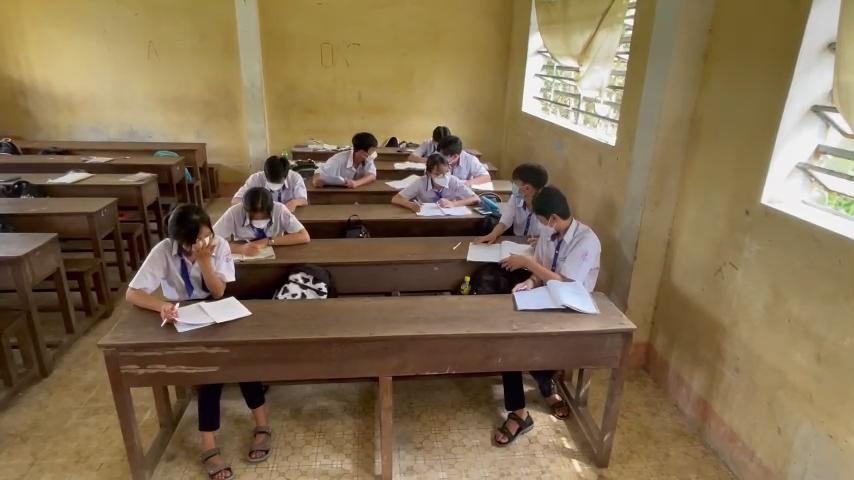Look Around: (516, 183, 577, 246), (495, 248, 590, 287), (188, 234, 232, 297), (345, 125, 383, 171), (507, 158, 544, 204)
